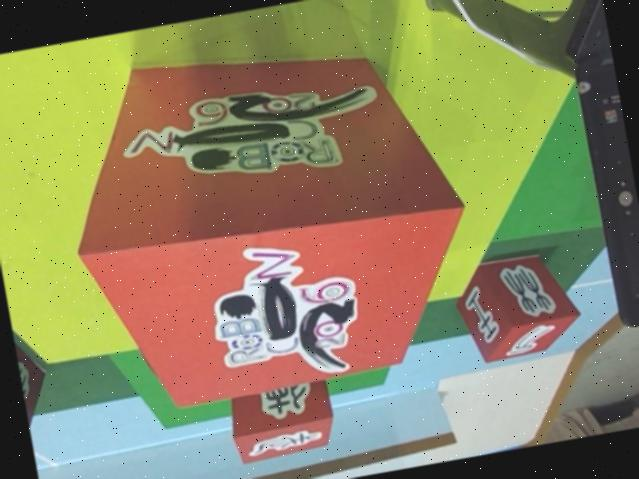R1: (45, 12, 488, 423)
R2 Fake: (448, 245, 585, 366), (217, 342, 337, 463)
